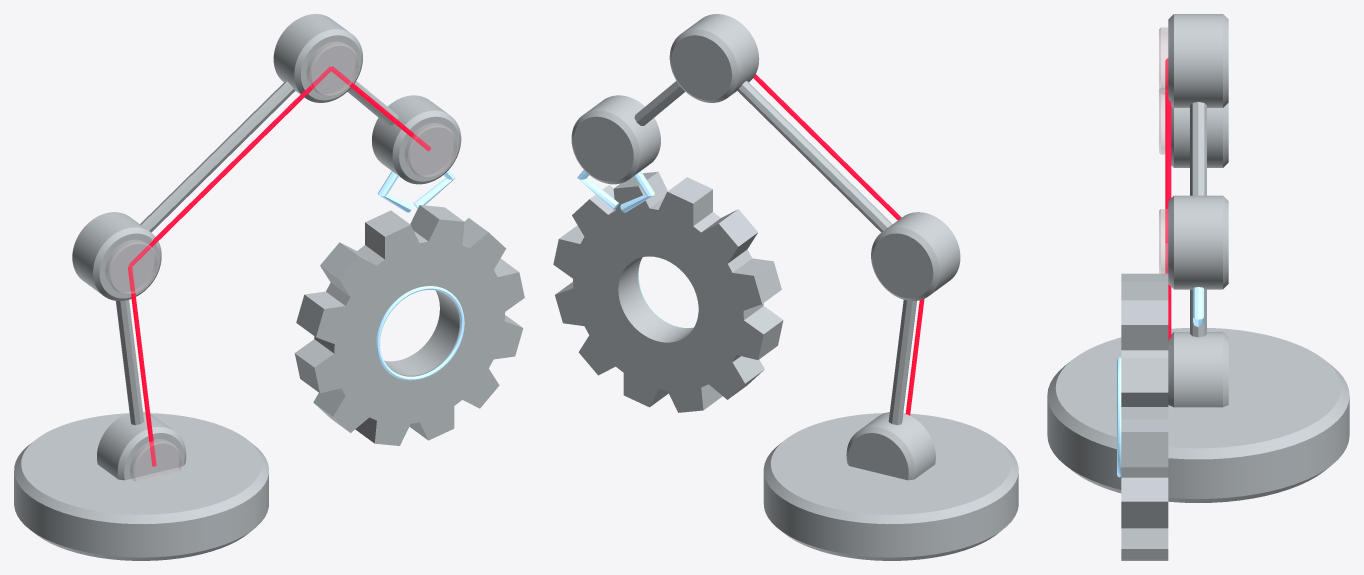
Rendered from 23-automation.glb.
3 renders of one model, left to right at view 1: azimuth 30°, elevation 25°; view 2: azimuth 150°, elevation 25°; view 3: azimuth 270°, elevation 25°, orthographic. The views are drawn at different scales.
Visible parts, largest first — view 1: BC thin clear technical glass, BC subtle ruby technical glass, BC ruby signal edge, BC cool glass edge; view 2: BC thin clear technical glass, BC ruby signal edge, BC cool glass edge; view 3: BC thin clear technical glass, BC subtle ruby technical glass, BC ruby signal edge, BC cool glass edge.
Part boxes in pixels (x1,y1,x2,y2): BC thin clear technical glass: (14,14,524,560); BC subtle ruby technical glass: (105,41,456,480); BC ruby signal edge: (127,66,430,466); BC cool glass edge: (376,170,464,380); BC thin clear technical glass: (553,14,1018,560); BC ruby signal edge: (753,74,924,415); BC cool glass edge: (577,170,684,327); BC thin clear technical glass: (1047,14,1349,560); BC subtle ruby technical glass: (1159,27,1168,275); BC ruby signal edge: (1165,58,1171,339); BC cool glass edge: (1117,287,1203,477).
Bounding box in the file's own units: 1.88 × 1.73 × 0.9.
